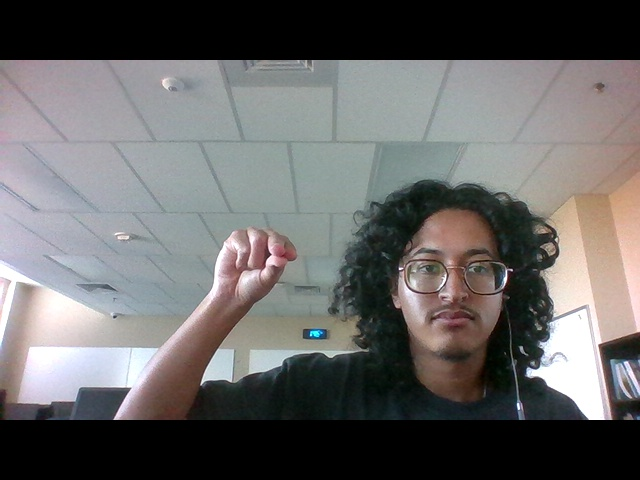no: (211, 223, 310, 310)
